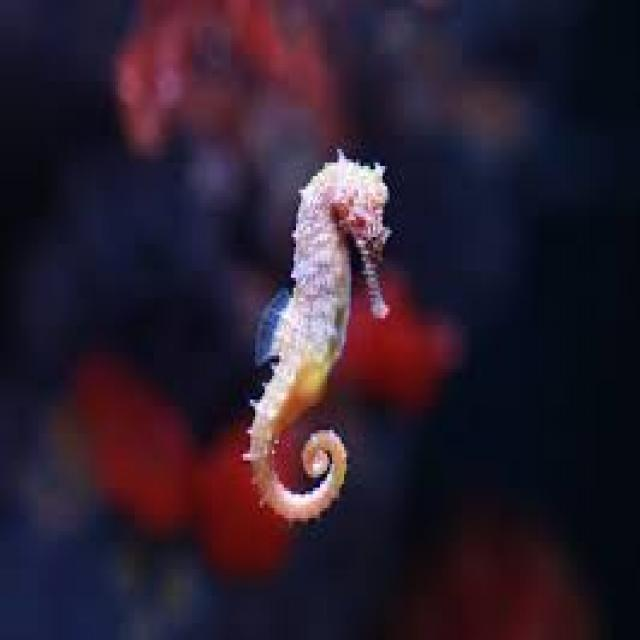SeaHorse: (243, 159, 390, 525)
